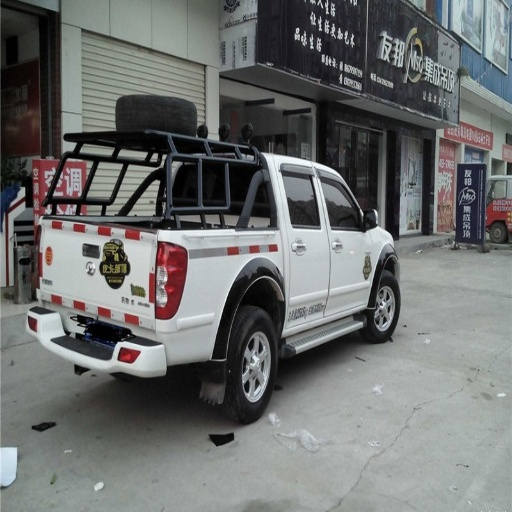back_right_door: (277, 164, 329, 326)
trunk: (70, 225, 278, 362)
